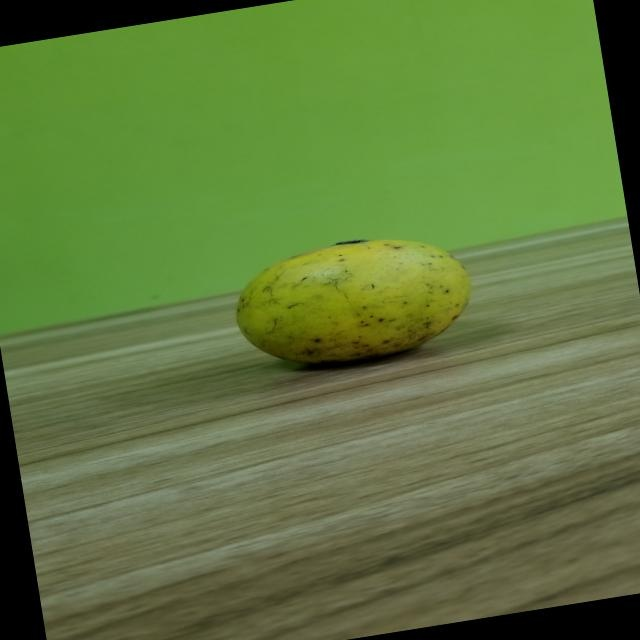agrume: (215, 220, 481, 392)
